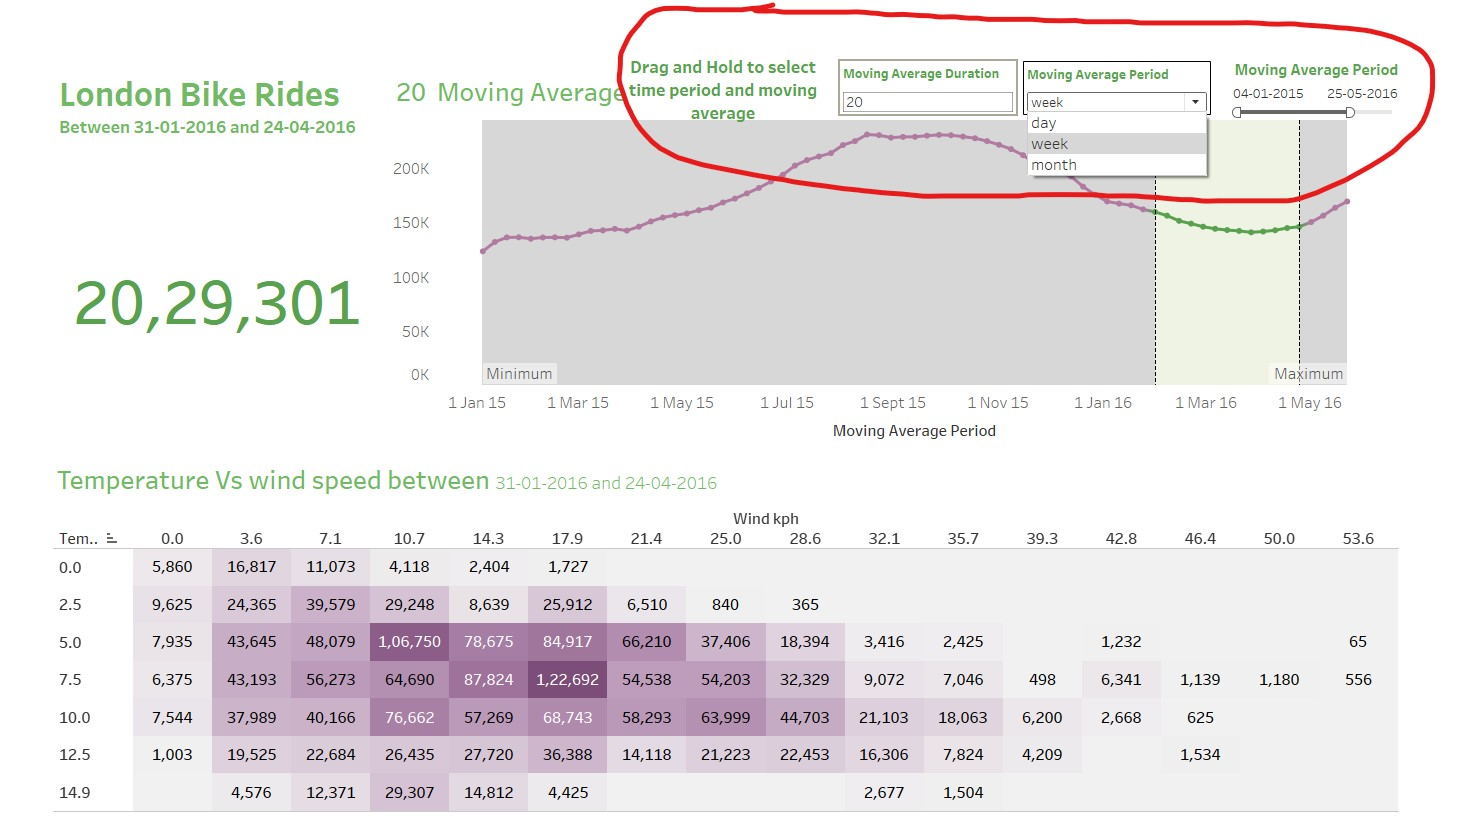

This screenshot's page, from the dashboard's own definition file:
{"tool":"tableau","page":{"name":"Dashboard 1","canvas":[1366,768],"ordinal":0},"visuals":[{"type":"parameter","param":"[Parameters].[Parameter 2]","box":[795,5,180,57]},{"type":"filter","title":"Moving Average","param":"[federated.0hxy6261gfx1dc13fv22s0brkqh2].[none:Calculation_814025675233157120:qk","box":[1185,5,177,71]},{"type":"parameter","param":"[Parameters].[Parameter 1]","box":[980,7,188,54]},{"type":"worksheet","title":"Sum of Rides","mark":"Automatic","box":[8,8,333,394]},{"type":"worksheet","title":"Moving Average","mark":"Automatic","rows":["Calculation1"],"cols":["Calculation_814025675233157120"],"box":[341,8,1017,394]},{"type":"worksheet","title":"HeatMap","mark":"Square","rows":["temp real C (bin)"],"cols":["Wind Speed Kph (bin)"],"box":[8,402,1350,358]}]}

Visuals, with their boxes in screenshot pixels (x1, y1, x2, y2), scaled from the page's 1366x768 canvas onto the 1466x823 screenshot:
parameter: [853,5,1046,66]
"Moving Average" filter: [1272,5,1462,81]
parameter: [1052,8,1254,65]
"Sum of Rides" worksheet: [9,9,366,431]
"Moving Average" worksheet: [366,9,1457,431]
"HeatMap" worksheet (Square marks): [9,431,1457,814]
